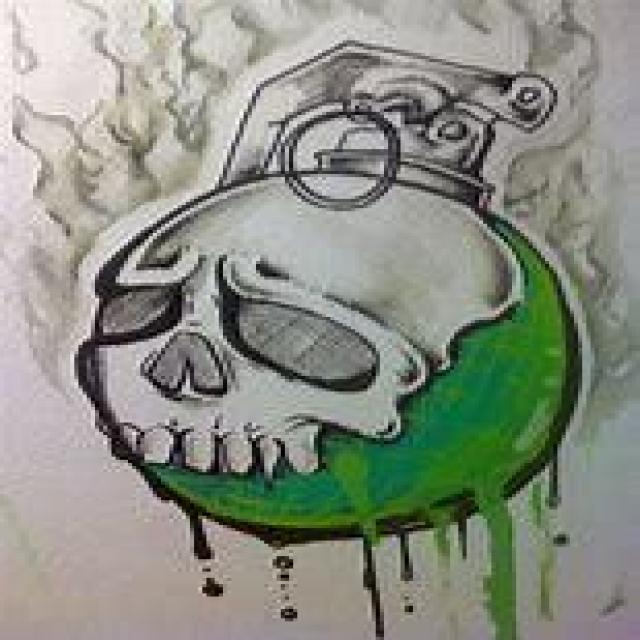nonspitting: (70, 37, 586, 640)
